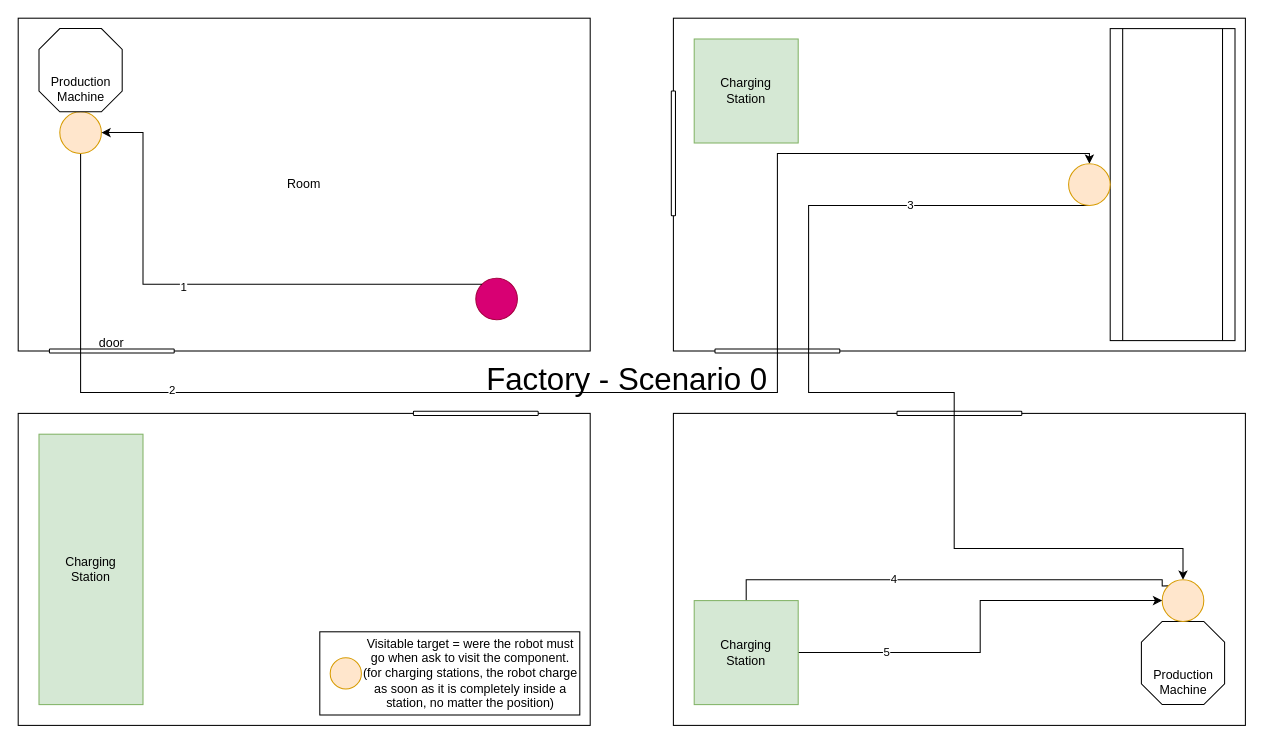
Some shapes in this 1264 by 744 pixel diagram are drawn without their labels. Here are the shapes that lost their labels. From the top down, the centre of each, then its label:
At pixel 1172 184: "Conveyor".
At pixel 496 298: "Robot".
